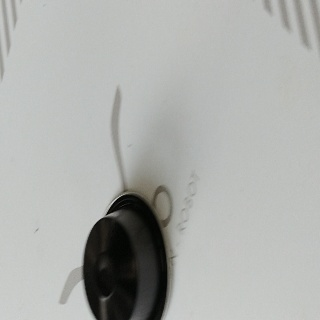capsule_10: (81, 190, 173, 320)
